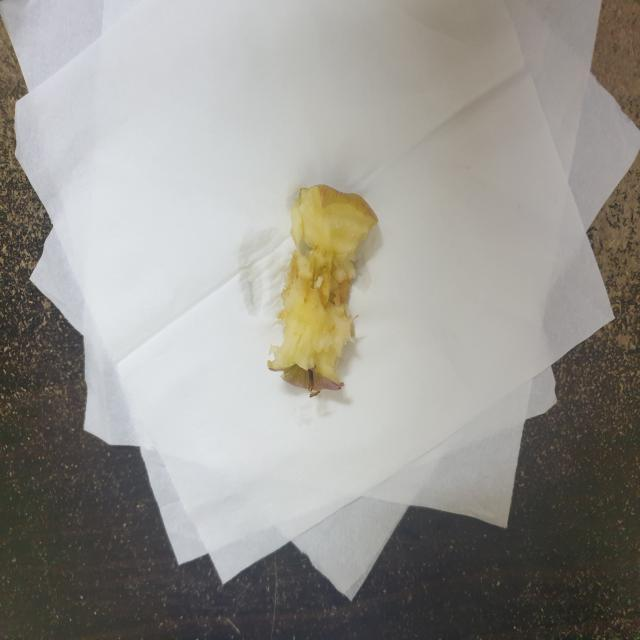apple: (261, 174, 389, 420)
